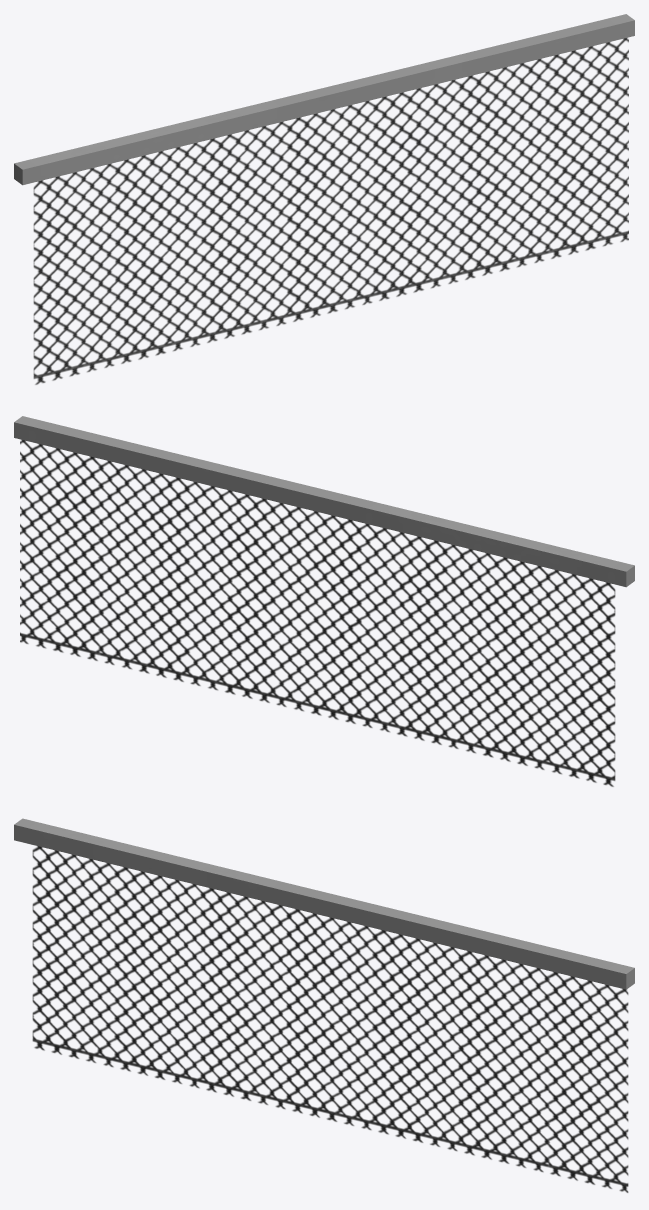
File: fence-chainlink-1rail-1s-noPost-cbj_LOD00.gltf
3 views of the same model, one above another, from view 1: azimuth 30°, elevation 25°; view 2: azimuth 150°, elevation 25°; view 3: azimuth 330°, elevation 25° (orthographic).
Parts seen in each view (by area): view 1: post; view 2: post; view 3: post.
Boxes of the visible parts, x1,y1,x2,y2 form: post: (14,14,634,384); post: (14,416,634,786); post: (14,818,634,1192).
Bounding box in the file's own units: 2.88 × 1.01 × 0.07.
